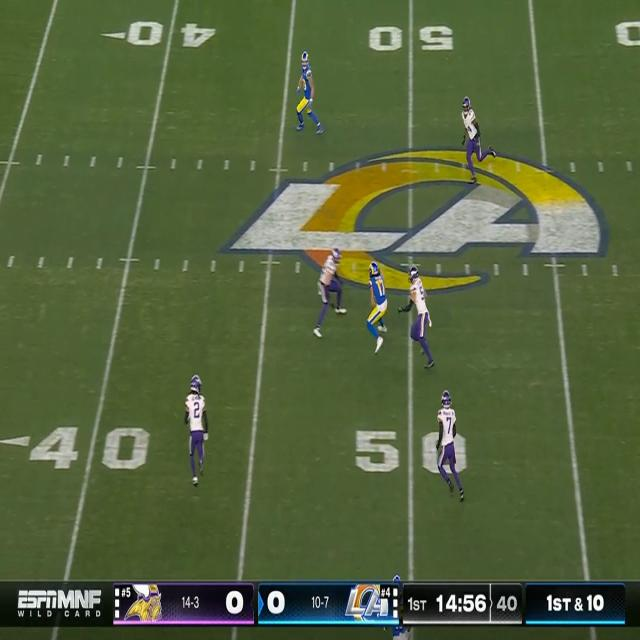Player: (181, 372, 211, 487), (313, 244, 345, 337), (434, 387, 458, 499), (405, 267, 430, 367), (461, 94, 486, 187), (367, 261, 388, 358), (298, 50, 318, 138)
